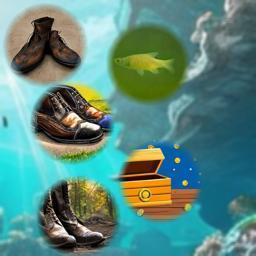not an animal: (39, 181, 112, 248), (34, 87, 111, 145), (12, 16, 81, 76)
treasure: (122, 147, 190, 212)
